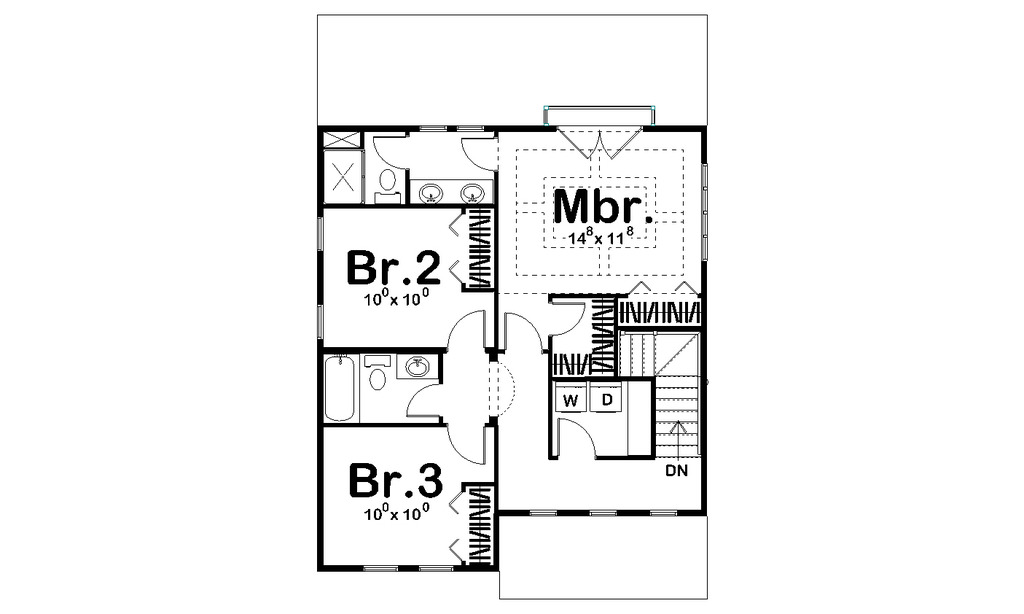door: (555, 127, 645, 162), (551, 416, 597, 461), (445, 424, 489, 470), (502, 311, 550, 353), (446, 309, 489, 350), (403, 383, 444, 419), (459, 136, 499, 172), (369, 134, 407, 171), (549, 300, 586, 337)
large_sink: (359, 353, 395, 397), (371, 170, 408, 205)
small_sink: (408, 177, 495, 207), (395, 355, 440, 381)
stairs: (616, 328, 701, 458)
tub: (322, 354, 359, 422)
windows: (523, 506, 684, 521), (697, 163, 712, 262), (356, 563, 455, 574), (414, 122, 491, 135), (312, 300, 329, 342), (314, 212, 326, 253)
